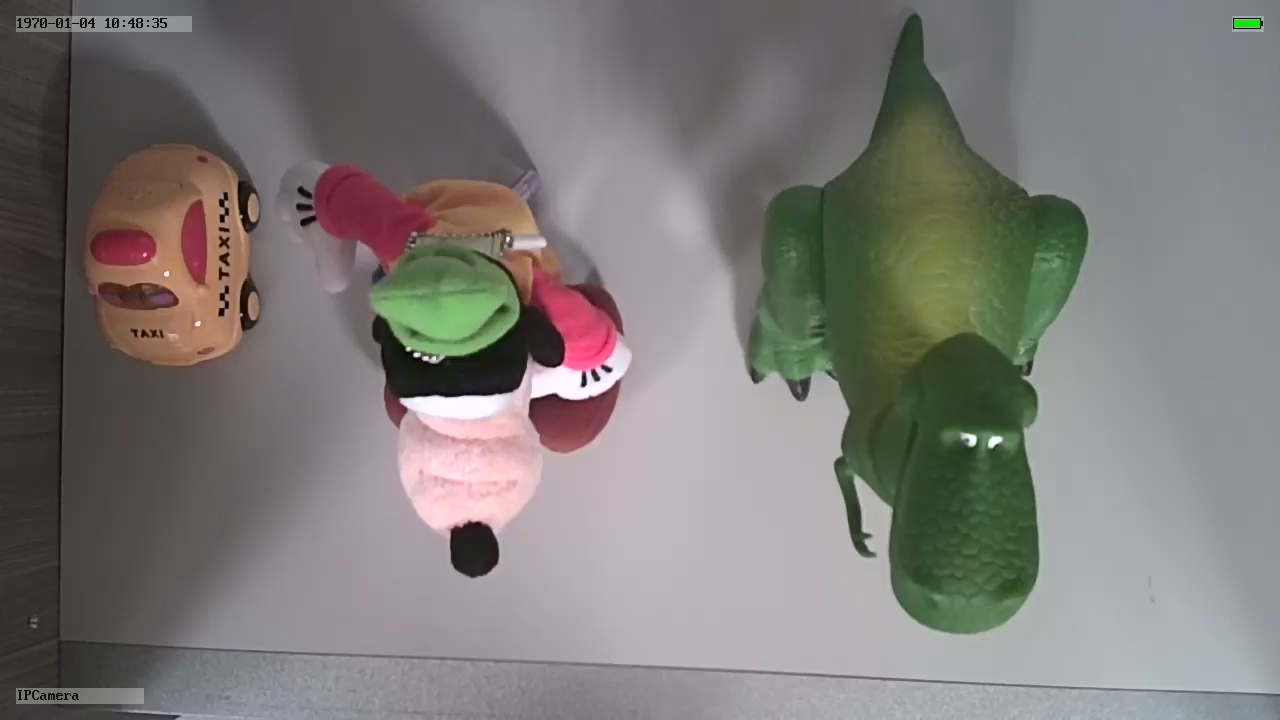car: (77, 134, 262, 370)
goofy: (275, 146, 638, 585)
rex: (746, 112, 1088, 635)
